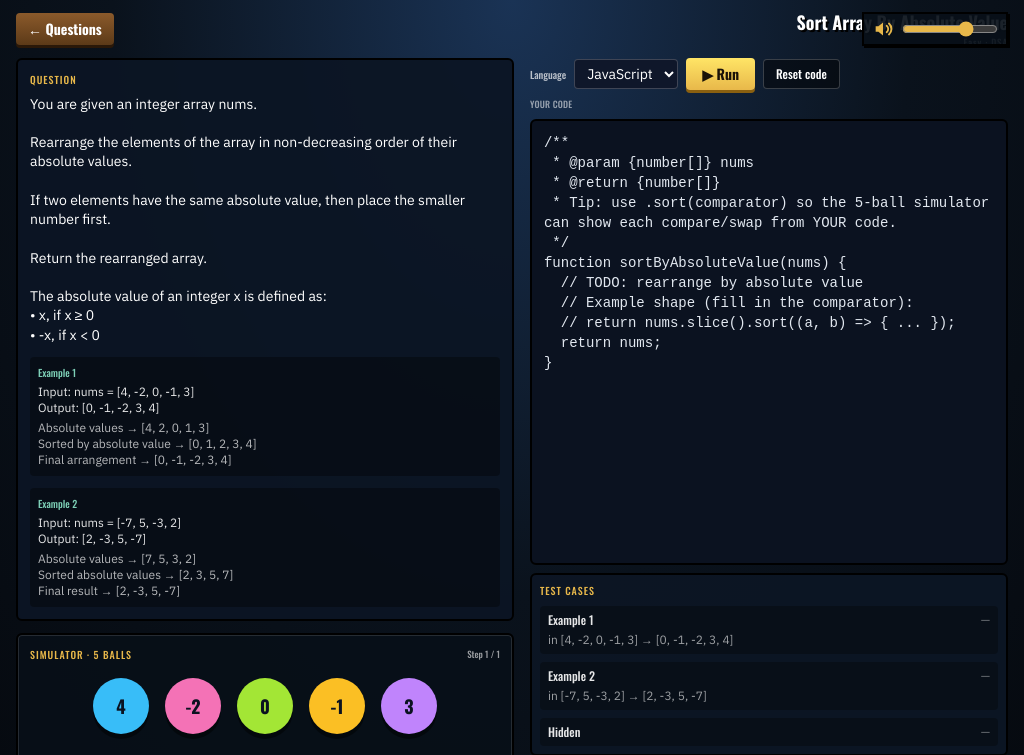
Test: DsaSolvePage › loads question, simulator, and runs failing starter
Expected: the text "Sort Array By Absolute Value" is shown, [797,8,1008,36]
Click the button "▶ Run" at (721, 74), box [686,58,755,90]
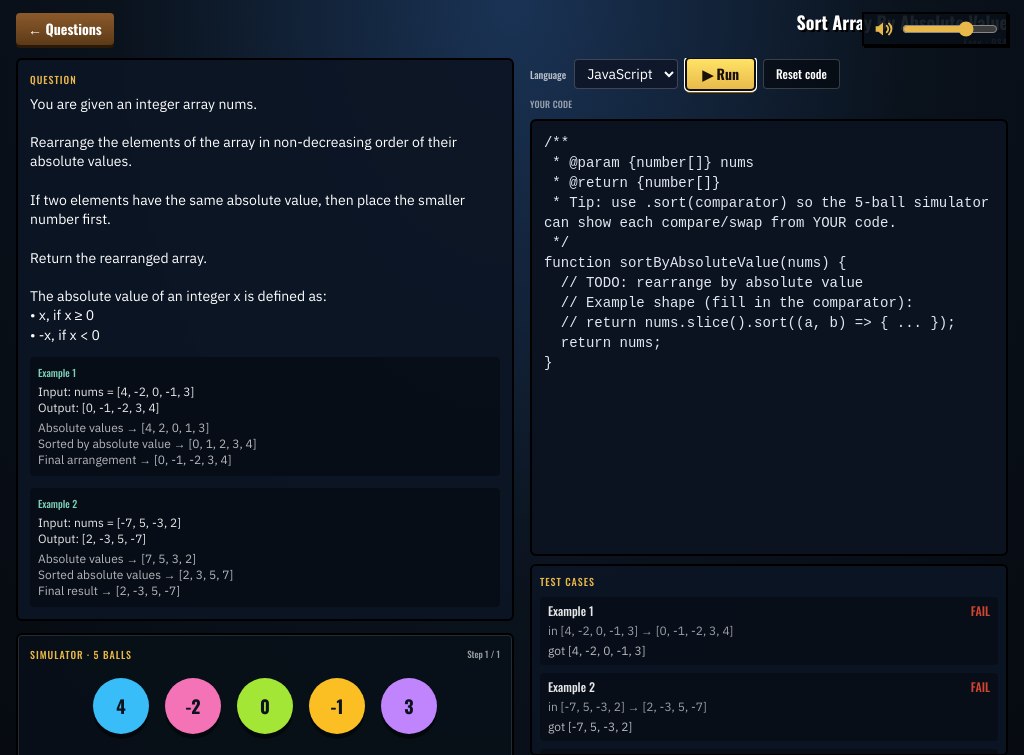
Result: the 1st text "FAIL" is shown at [971,603,990,619]
